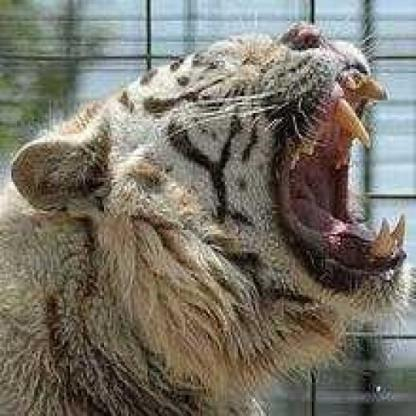Tiger: (0, 13, 412, 398)
